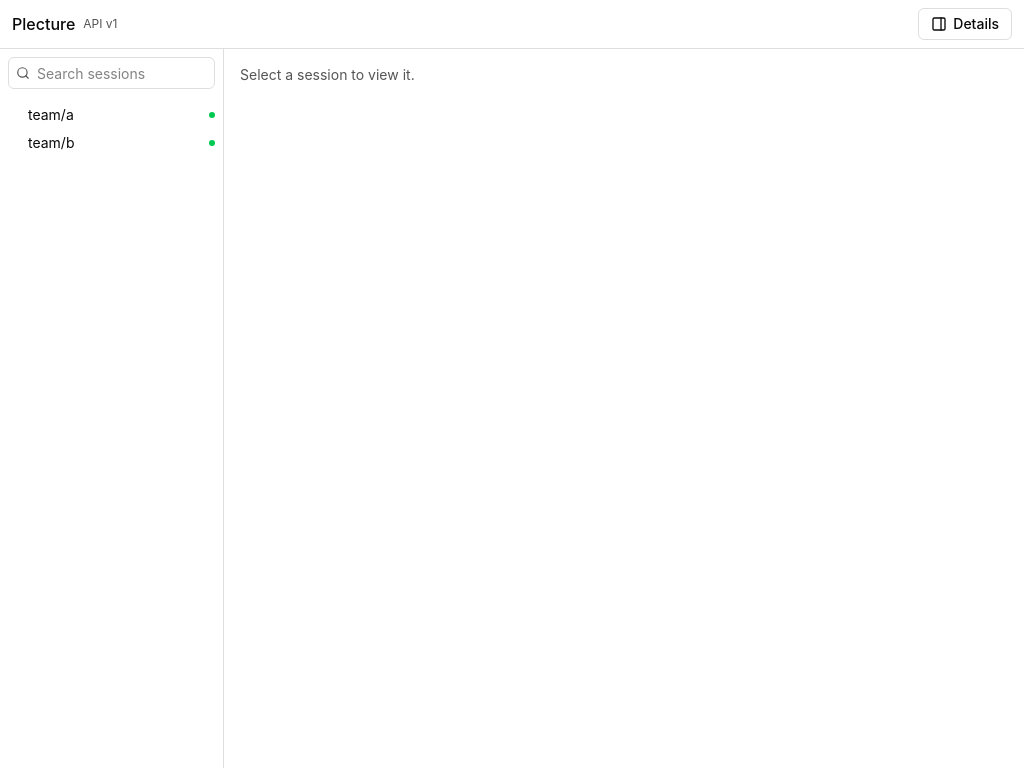
Test: AppShell session selection › selecting a session shows its name in the header and in the detail pane, without leaking a previous session's detail
Click the list item "team/a". click: (122, 115)
box: [28,101,215,129]
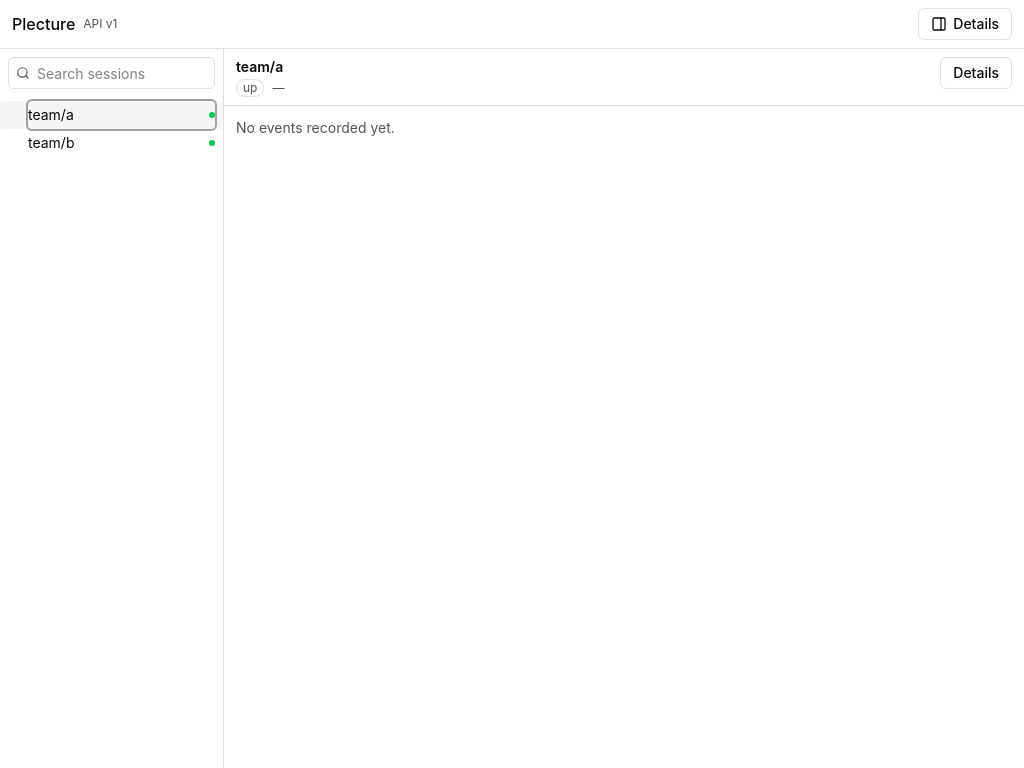
Now the heading "team/a" is shown, box [236,57,284,77]
Click the button with aria-label "toggle details". click: (965, 24)
box: [918,8,1012,40]
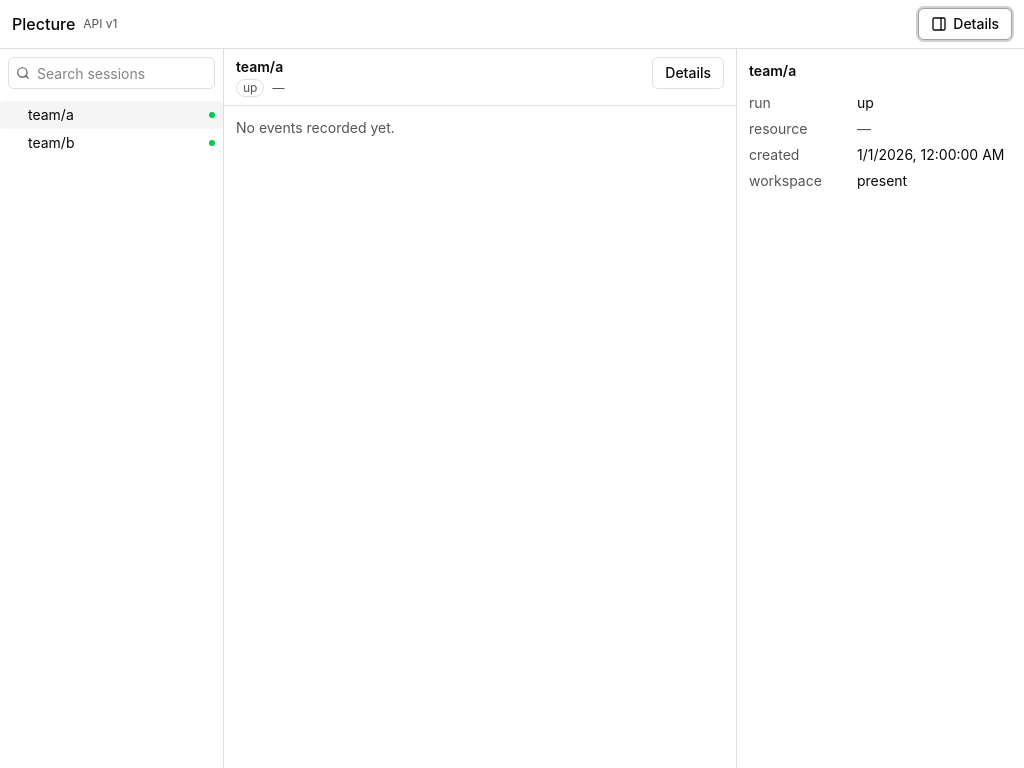
Now the 2nd heading "team/a" is shown, box [749,62,796,79]
Click the list item "team/b". click: (122, 143)
box: [28,129,215,157]
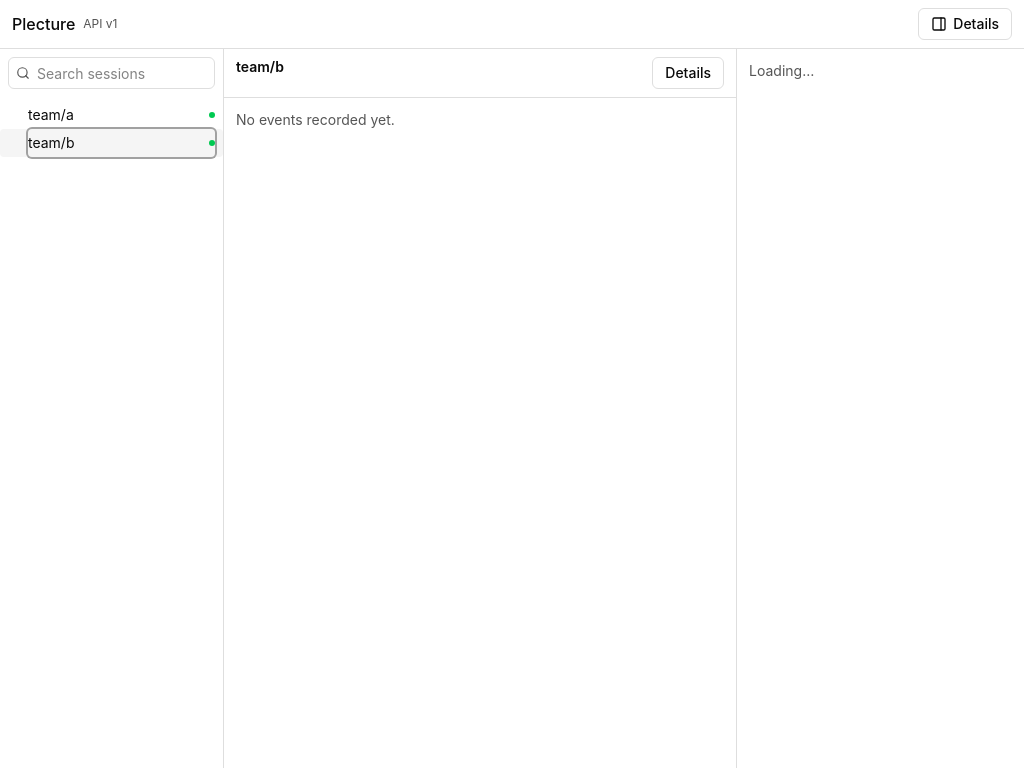
Now the heading "team/b" is shown, box [236,57,284,77]
Now the text "Loading…" is shown, box [749,62,814,79]
